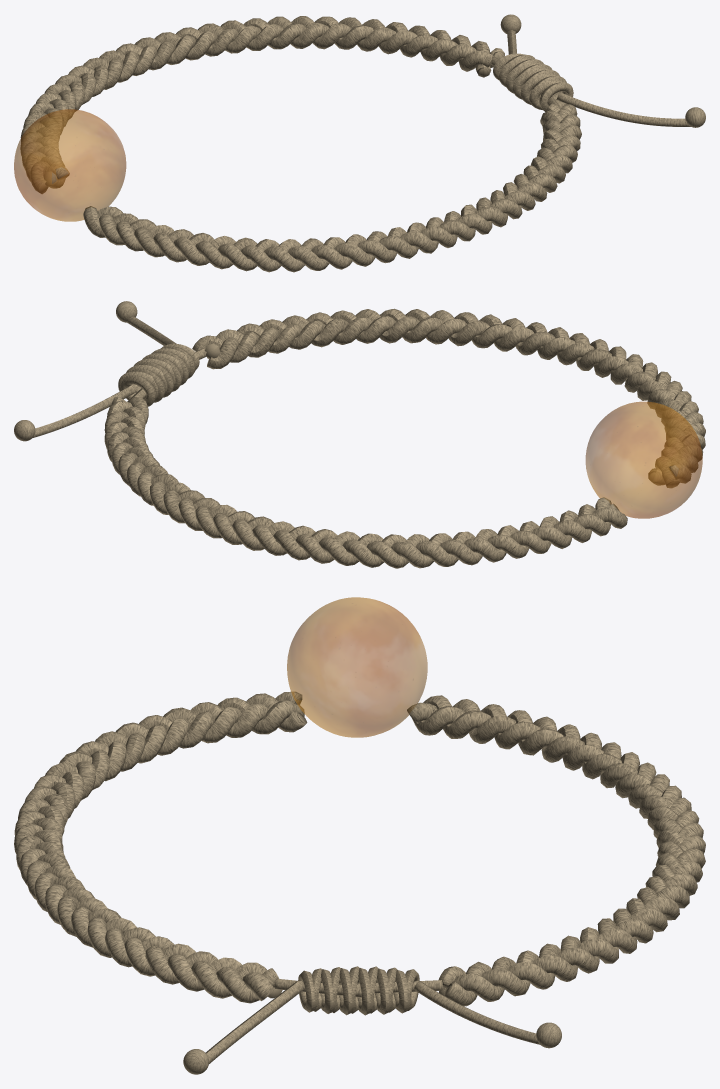
File: bursztyn.glb
3 views of the same model, one above another, from view 1: azimuth 30°, elevation 25°; view 2: azimuth 150°, elevation 25°; view 3: azimuth 270°, elevation 25° (orthographic). The views are drawn at different scales.
Parts seen in each view (by area): view 1: bead_round_1, warkocz.018, warkocz.015, warkocz.017, warkocz.016, warkocz.019, warkocz.020, koncowka.057, wezel.336; view 2: bead_round_1, warkocz.015, warkocz.017, warkocz.020, warkocz.016, warkocz.018, warkocz.019, koncowka.056, wezel.347, koncowka.057; view 3: bead_round_1, warkocz.019, warkocz.020, warkocz.018, warkocz.016, warkocz.017, warkocz.015, koncowka.056, koncowka.057.
Boxes of the visible parts, x1,y1,x2,y2 form: bead_round_1: (14,109,126,221); warkocz.018: (83,104,580,272); warkocz.015: (20,16,494,181); warkocz.017: (20,16,504,193); warkocz.016: (22,16,491,188); warkocz.019: (97,103,580,272); warkocz.020: (99,110,581,271); koncowka.057: (556,92,690,126); wezel.336: (539,82,573,111); bead_round_1: (585,401,702,518); warkocz.015: (104,397,611,568); warkocz.017: (104,397,627,568); warkocz.020: (207,308,705,485); warkocz.016: (107,401,619,567); warkocz.018: (192,309,705,483); warkocz.019: (204,309,703,487); koncowka.056: (33,385,136,437); wezel.347: (121,375,156,406); koncowka.057: (126,316,176,345); bead_round_1: (287,597,427,737); warkocz.019: (14,697,304,1003); warkocz.020: (16,693,307,998); warkocz.018: (14,691,302,1000); warkocz.016: (412,702,703,1001); warkocz.017: (423,695,705,1006); warkocz.015: (407,699,705,996); koncowka.056: (414,981,539,1044); koncowka.057: (205,981,304,1063).
Size of the model in its own units: 7.62 by 1.2 by 5.91.
2 materials, 2 textured.
